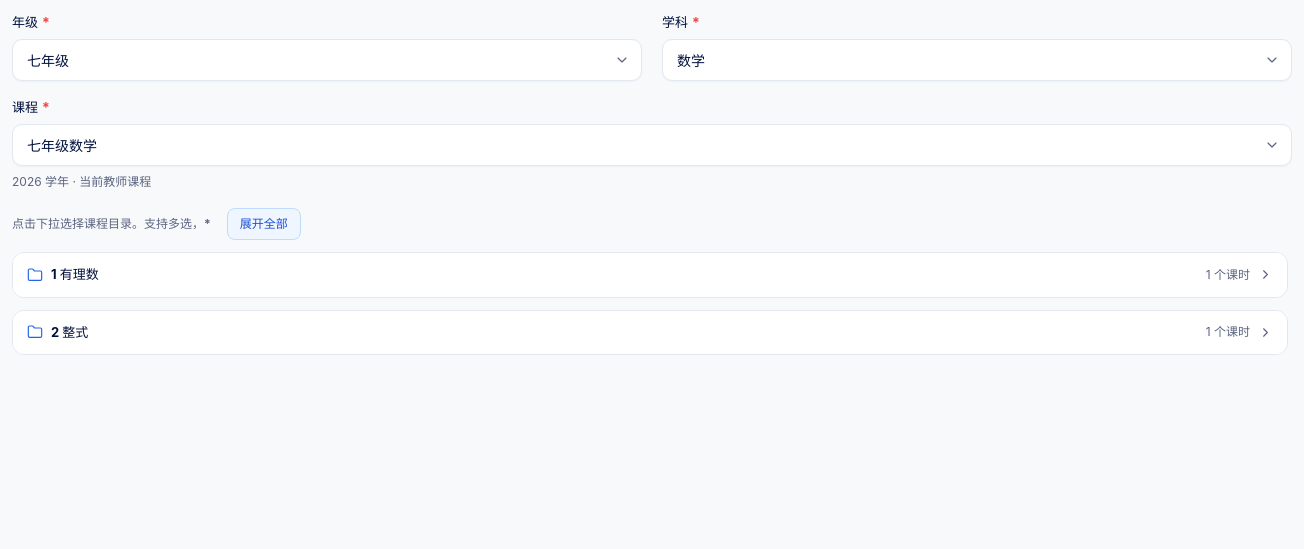
Test: StartClassCourseStep › expands and collapses all chapters from one control
The width and height of the screenshot is (1304, 549).
Click the button "展开全部" at point(264, 224), box [227,208,301,240]
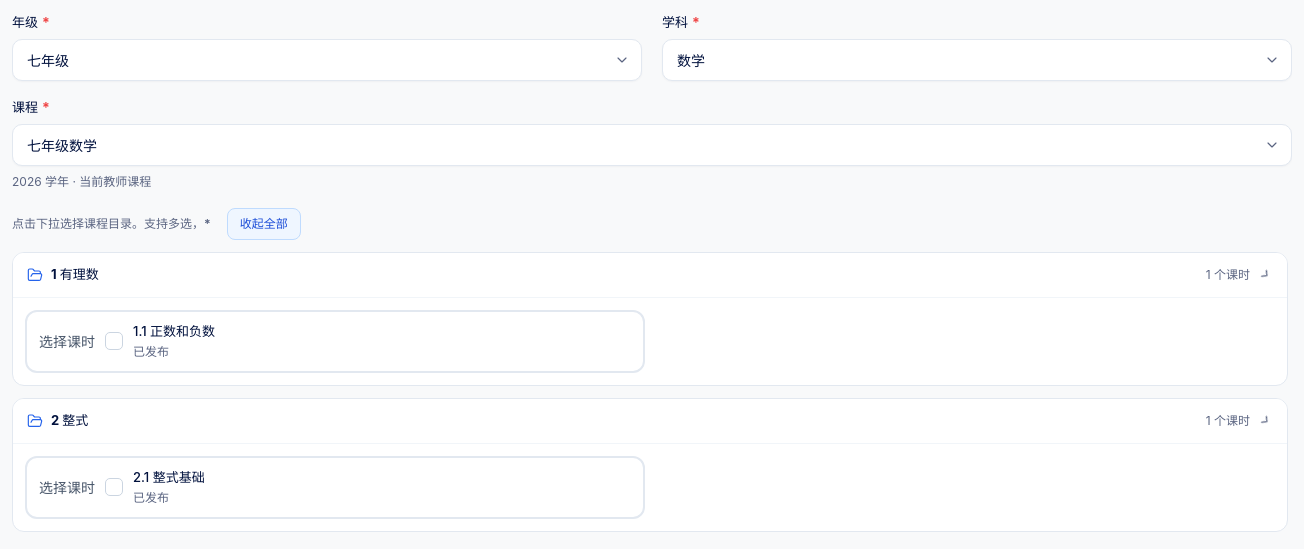
Expected: the text "1.1 正数和负数" is shown, [133,322,215,338]
Expected: the text "2.1 整式基础" is shown, [133,468,205,484]
Click the button "收起全部" at point(264, 224), box [227,208,301,240]
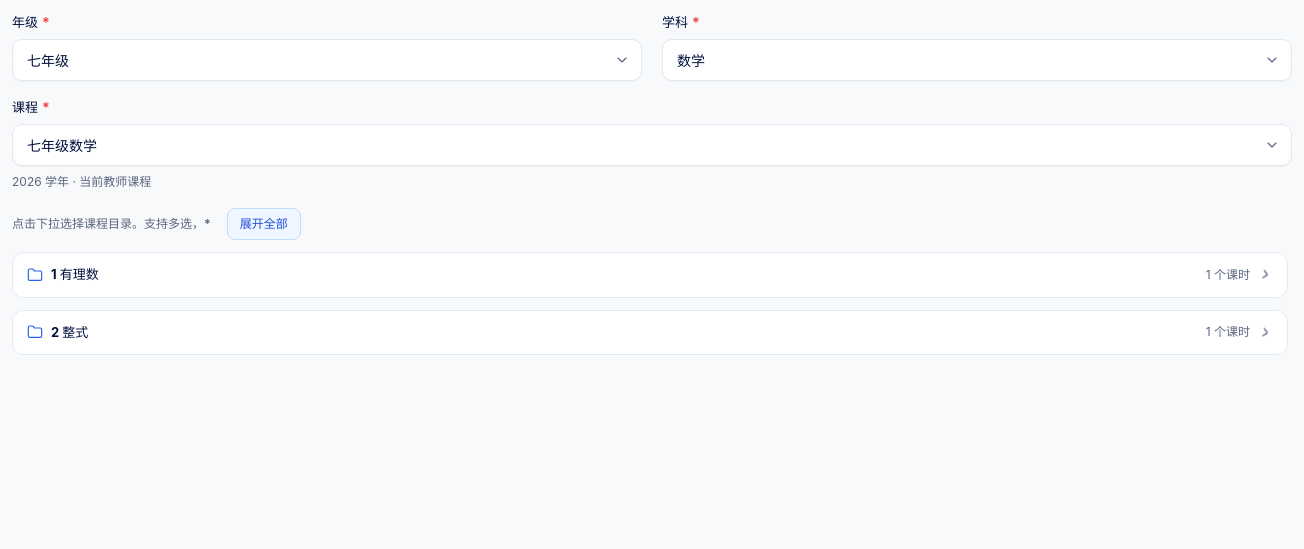
Expected: the text "1.1 正数和负数" is gone
